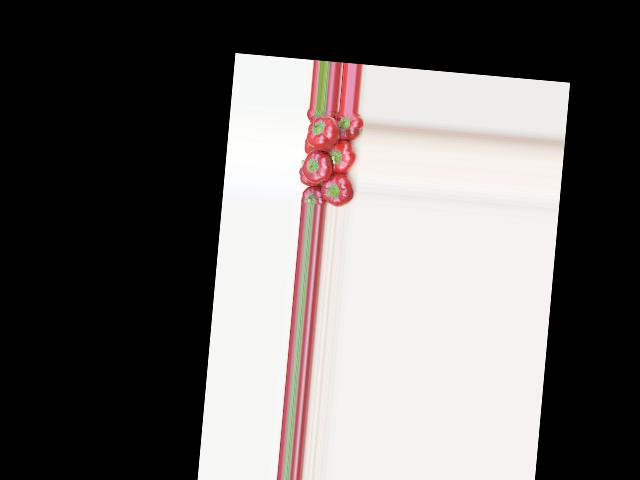bell_pepper: (302, 140, 316, 155)
